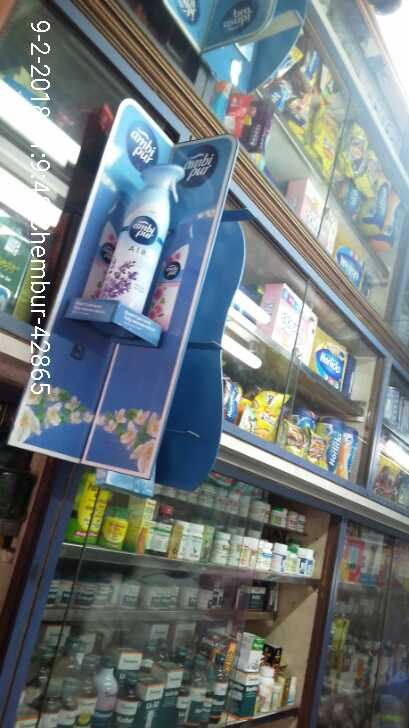ambipure: (104, 152, 180, 324)
